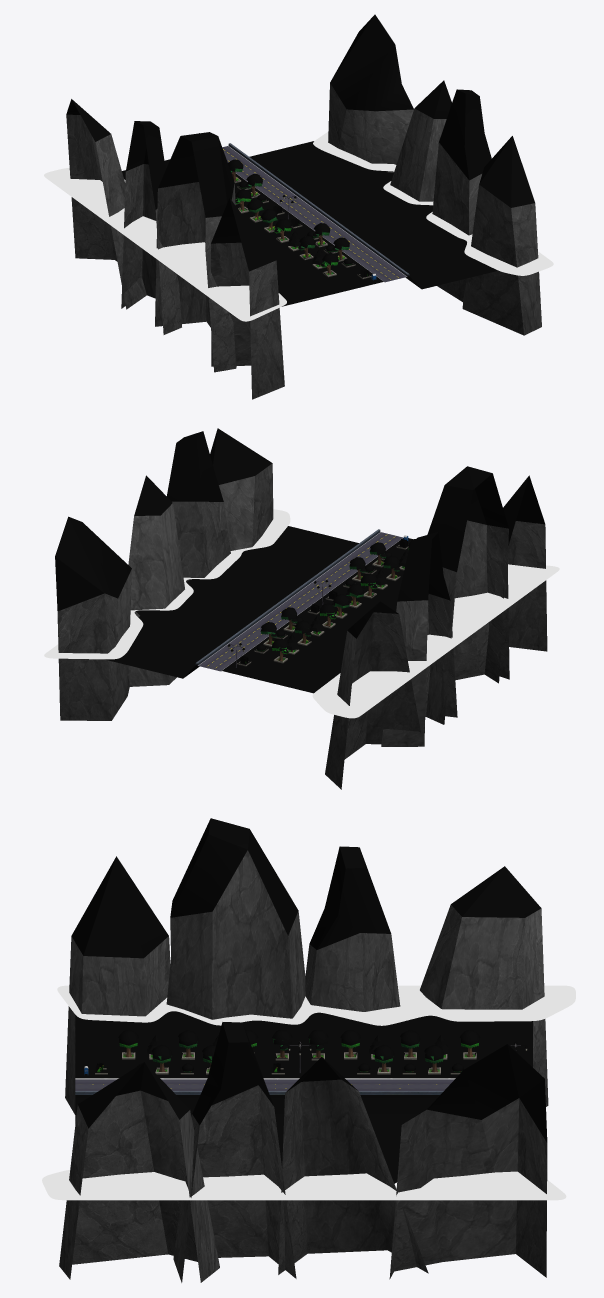
The model's file is citywinter_09.fbx.
3 renders of one model, top to bottom at view 1: azimuth 30°, elevation 25°; view 2: azimuth 150°, elevation 25°; view 3: azimuth 270°, elevation 25°, orthographic. The views are drawn at different scales.
Parts seen in each view (by area): view 1: City_09; view 2: City_09; view 3: City_09.
Boxes of the visible parts, bbox=[...] form: City_09: bbox=[44, 14, 553, 399]; City_09: bbox=[44, 428, 559, 789]; City_09: bbox=[42, 818, 575, 1282].
Bounding box in the file's own units: 22617 × 13384 × 25170.
